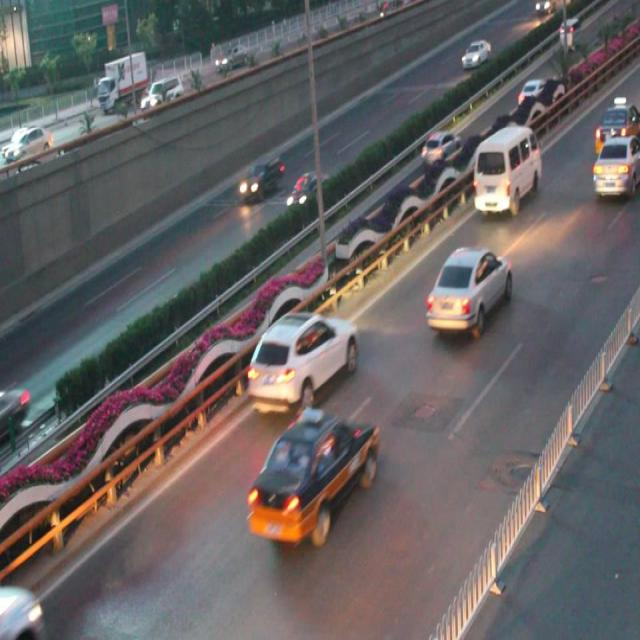car: (245, 411, 381, 548), (248, 310, 357, 413), (426, 247, 512, 335), (589, 136, 640, 197), (592, 98, 640, 153), (238, 152, 284, 201), (283, 168, 328, 209), (419, 127, 458, 168)
truck: (472, 124, 540, 215)
